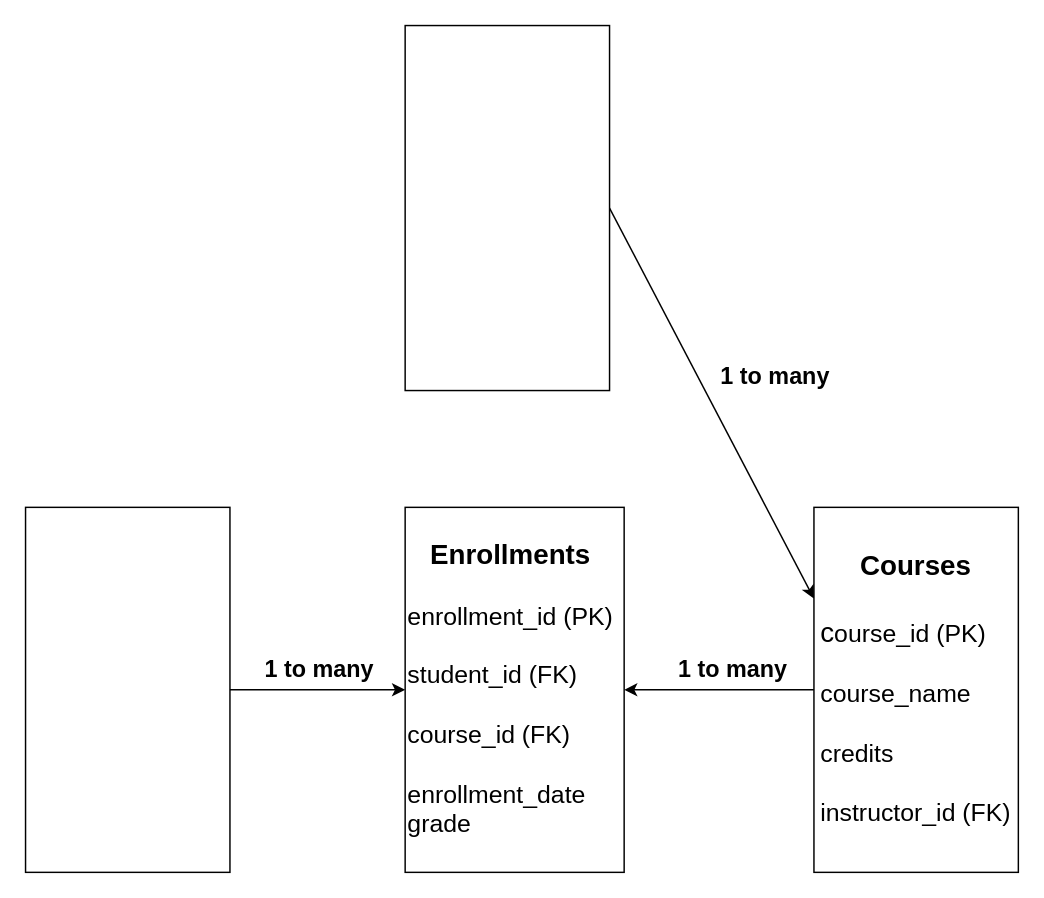
This 1044x898 diagram has some shape labels left out. Each missing label, with the centre of its shape:
Instructors instructor_id (PK) first_name last_name email department: the point at 507,207
Students s tudent_id (PK) first_name last_name email date_of_birth: the point at 127,689
